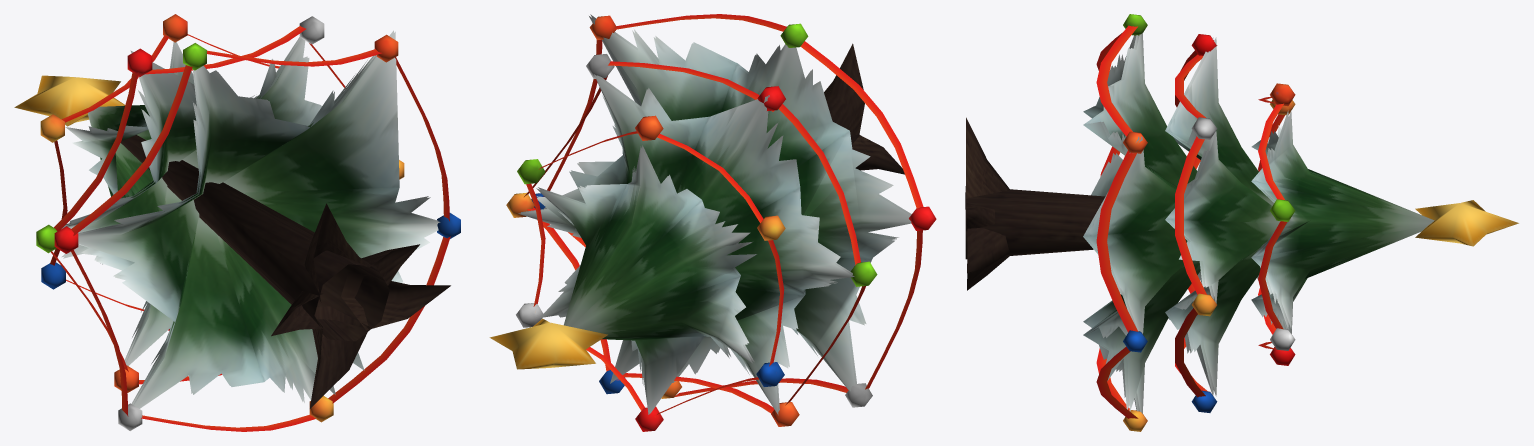
File: Christmas_Tree_D.FBX
3 renders of one model, left to right at view 1: azimuth 30°, elevation 25°; view 2: azimuth 150°, elevation 25°; view 3: azimuth 270°, elevation 25°, orthographic. The views are drawn at different scales.
Visible parts, largest first — view 1: Christmas_Tree_D; view 2: Christmas_Tree_D; view 3: Christmas_Tree_D.
Boxes of the visible parts, left/top/right/bottom form: Christmas_Tree_D: left=14, top=14, right=460, bottom=431; Christmas_Tree_D: left=489, top=14, right=936, bottom=431; Christmas_Tree_D: left=965, top=14, right=1518, bottom=431.
Bounding box in the file's own units: 68.05 × 65.04 × 90.7.
